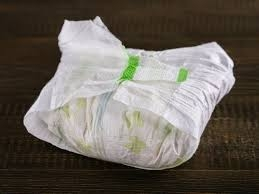paper: (17, 14, 238, 171)
